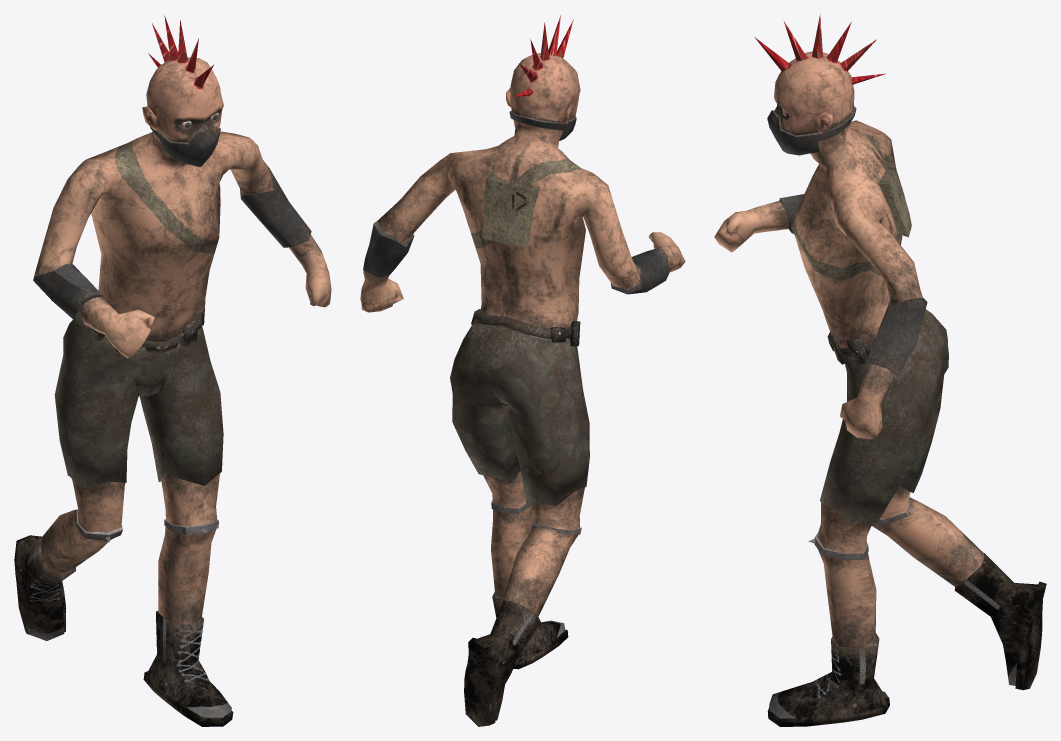
The model's file is Anim_correr_npc2.0037.obj.
3 views of the same model, side by side, from view 1: azimuth 30°, elevation 25°; view 2: azimuth 150°, elevation 25°; view 3: azimuth 270°, elevation 25° (orthographic). The views are drawn at different scales.
Parts seen in each view (by area): view 1: Anim_correr_npc2; view 2: Anim_correr_npc2; view 3: Anim_correr_npc2.
Part boxes in pixels (left/top/right/bottom): Anim_correr_npc2: left=14, top=15, right=331, bottom=726; Anim_correr_npc2: left=360, top=15, right=685, bottom=726; Anim_correr_npc2: left=714, top=14, right=1046, bottom=726.
Bounding box in the file's own units: 4.58 × 10.05 × 4.34.
